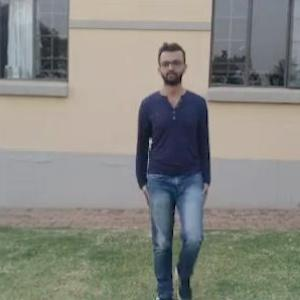follow: (137, 36, 215, 290)
